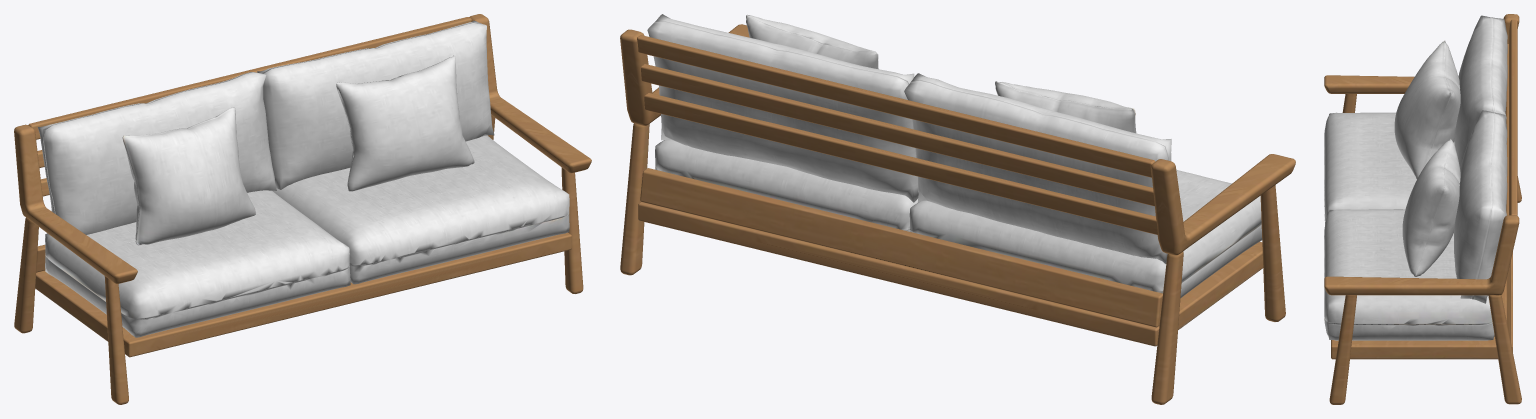
The model's file is ecba830a-8df6-4375-b59c-a10a18f947f0.glb.
3 renders of one model, left to right at view 1: azimuth 30°, elevation 25°; view 2: azimuth 150°, elevation 25°; view 3: azimuth 270°, elevation 25°, orthographic. The views are drawn at different scales.
Visible parts, largest first — view 1: Cotton Mini Sofa; view 2: Cotton Mini Sofa; view 3: Cotton Mini Sofa.
Boxes of the visible parts, x1=… form: Cotton Mini Sofa: x1=14, y1=14, x2=591, y2=404; Cotton Mini Sofa: x1=620, y1=14, x2=1295, y2=404; Cotton Mini Sofa: x1=1324, y1=14, x2=1521, y2=404.
Size of the model in its own units: 2.56 by 1.1 by 1.01.
Materials: 1 (1 with a texture image).
